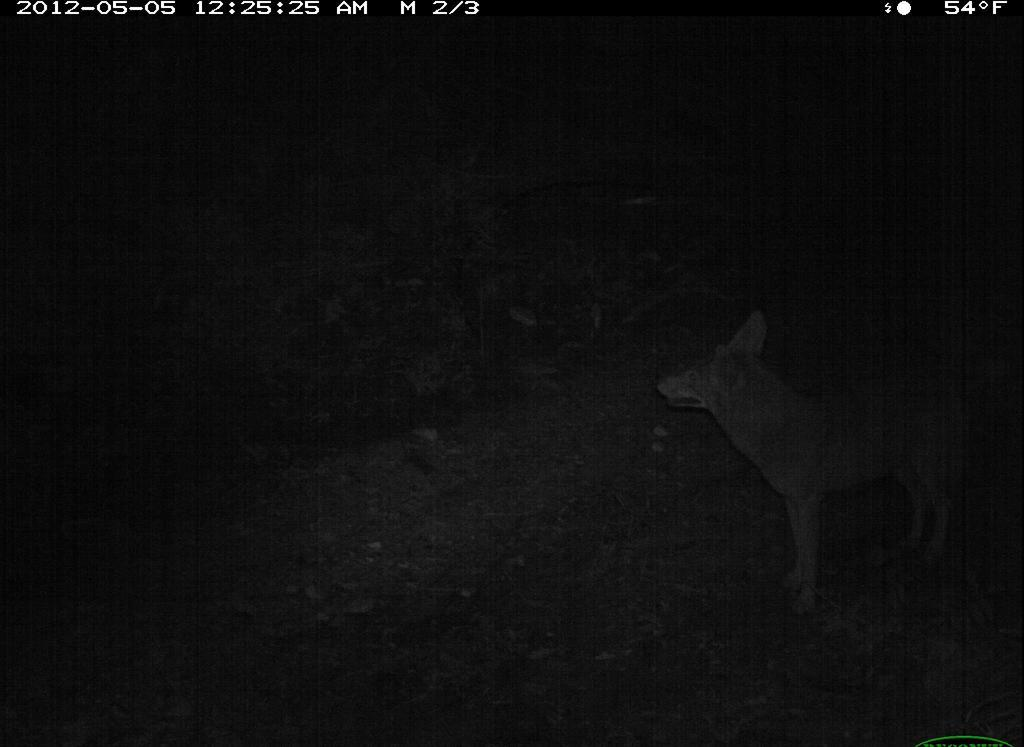coyote: (628, 308, 1017, 653)
